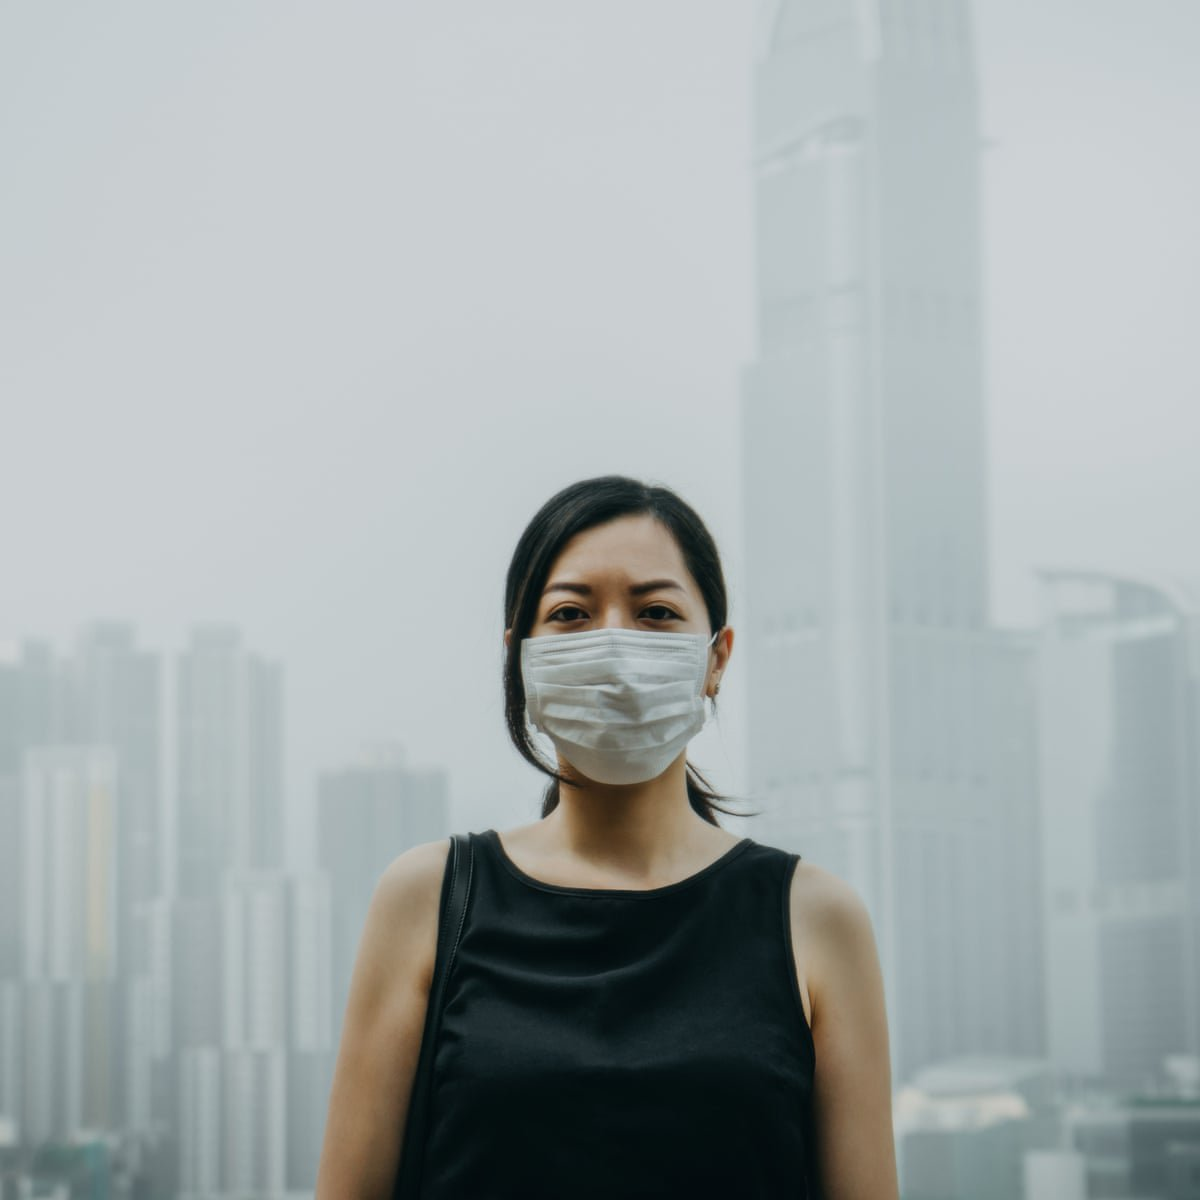mask: (483, 468, 807, 803)
